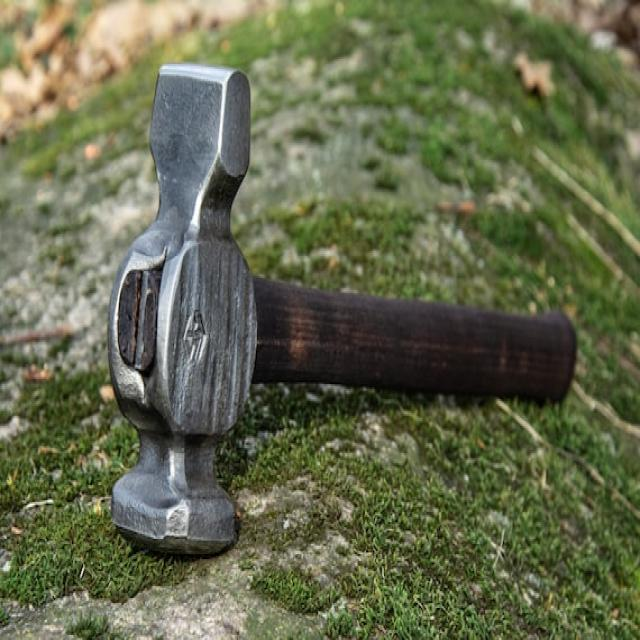hammer: (100, 54, 588, 573)
